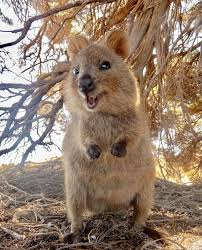quokka: (37, 26, 163, 240)
